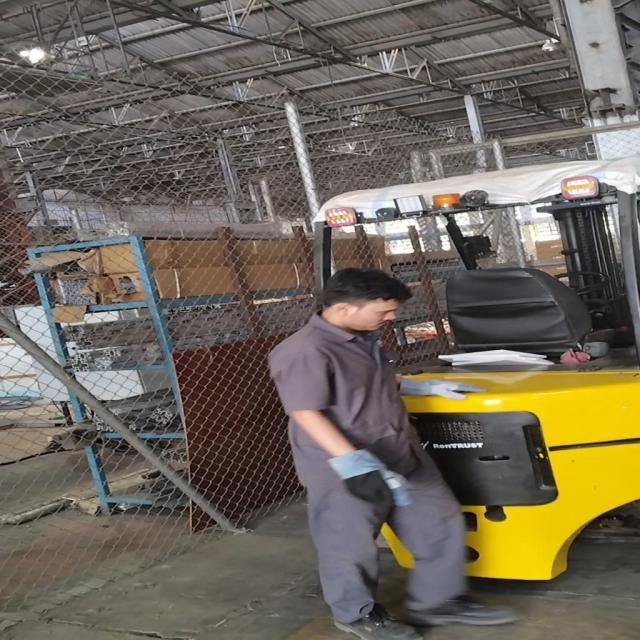Gloves-Detection: (319, 453, 422, 514), (393, 371, 486, 405)
